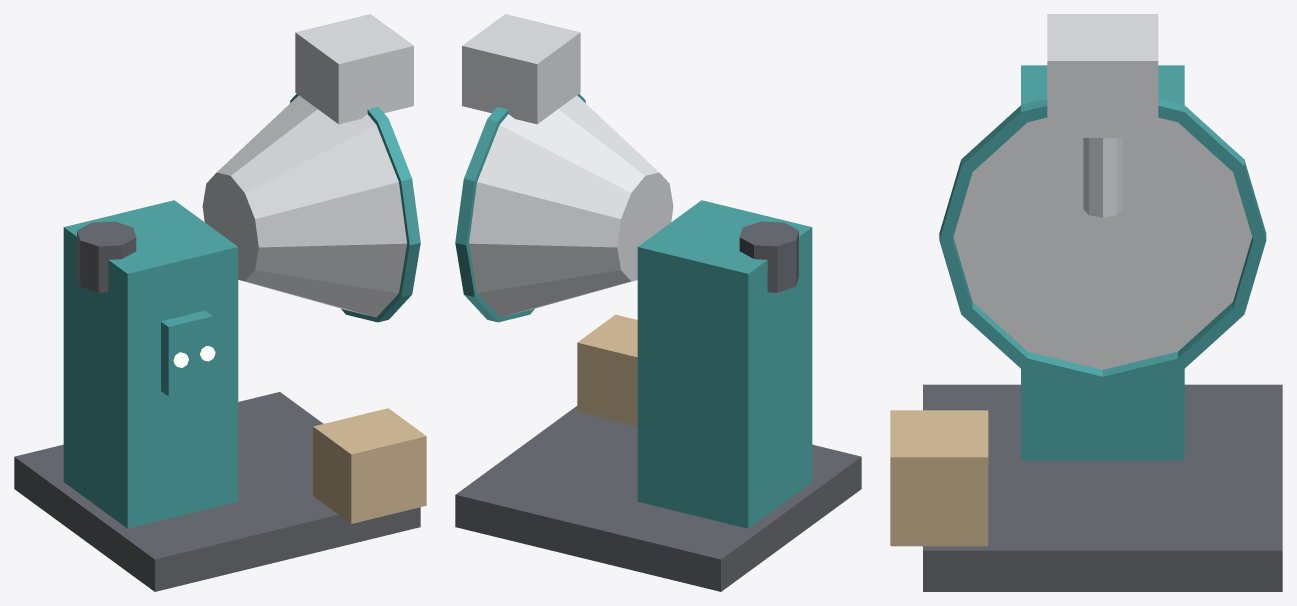
The model's file is chocolate-and-confectionery-factory-panning-drum-b9cf8613__36782.glb.
The picture shows the model from 3 angles, left to right: view 1: azimuth 30°, elevation 25°; view 2: azimuth 150°, elevation 25°; view 3: azimuth 270°, elevation 25°; orthographic projection. The views are drawn at different scales.
Parts seen in each view (by area): view 1: panning-drum, drum-pan/steel, drum-pan/teal; view 2: panning-drum, drum-pan/steel, drum-pan/teal; view 3: panning-drum, drum-pan/steel, drum-pan/teal.
Boxes of the visible parts, x1,y1,x2,y2 form: panning-drum: (14, 14, 426, 591); drum-pan/steel: (202, 95, 406, 317); drum-pan/teal: (290, 94, 420, 322); panning-drum: (455, 14, 861, 591); drum-pan/steel: (469, 95, 673, 317); drum-pan/teal: (455, 93, 585, 322); panning-drum: (890, 14, 1282, 591); drum-pan/steel: (953, 117, 1251, 369); drum-pan/teal: (939, 99, 1266, 388).
Bounding box in the file's own units: 1.41 × 1.88 × 1.2.
